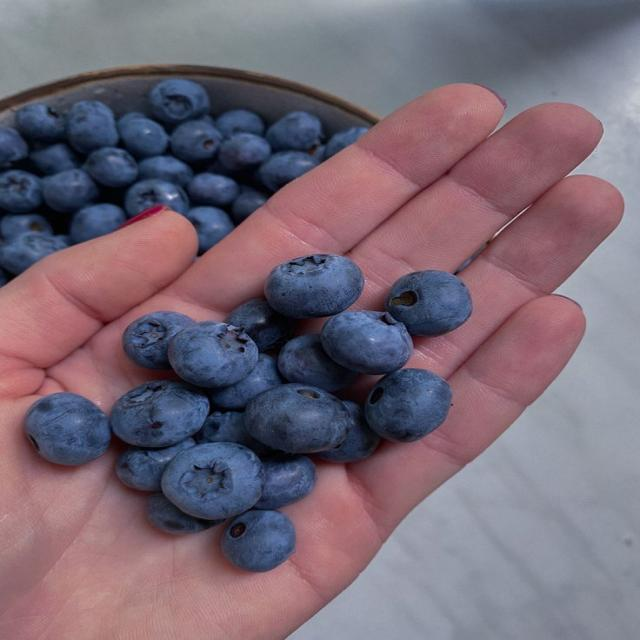blueberry: (161, 443, 264, 519), (245, 383, 348, 452), (110, 381, 209, 447), (365, 369, 452, 442), (265, 255, 364, 318), (25, 393, 111, 465), (168, 321, 258, 387), (321, 311, 413, 374), (387, 271, 472, 335), (278, 334, 357, 392), (222, 510, 295, 572), (116, 438, 196, 491), (123, 311, 195, 369), (209, 354, 282, 409), (316, 401, 380, 463), (194, 412, 273, 456), (225, 299, 293, 350), (254, 455, 315, 509), (147, 492, 223, 534), (0, 231, 66, 274), (67, 101, 119, 153), (149, 79, 209, 123), (258, 151, 319, 191), (43, 169, 99, 212), (125, 179, 189, 216), (266, 111, 323, 151), (70, 203, 126, 243), (170, 121, 222, 163), (187, 207, 234, 253), (84, 147, 138, 187), (119, 118, 168, 158), (218, 134, 271, 170), (16, 104, 65, 142), (0, 170, 42, 213), (139, 155, 193, 187), (187, 173, 239, 206), (29, 143, 78, 175), (323, 127, 368, 159), (231, 186, 268, 224), (0, 214, 52, 240), (216, 109, 264, 137), (0, 127, 28, 167), (117, 112, 146, 131), (307, 145, 326, 162), (194, 114, 215, 125), (55, 235, 73, 247), (0, 268, 10, 287)
